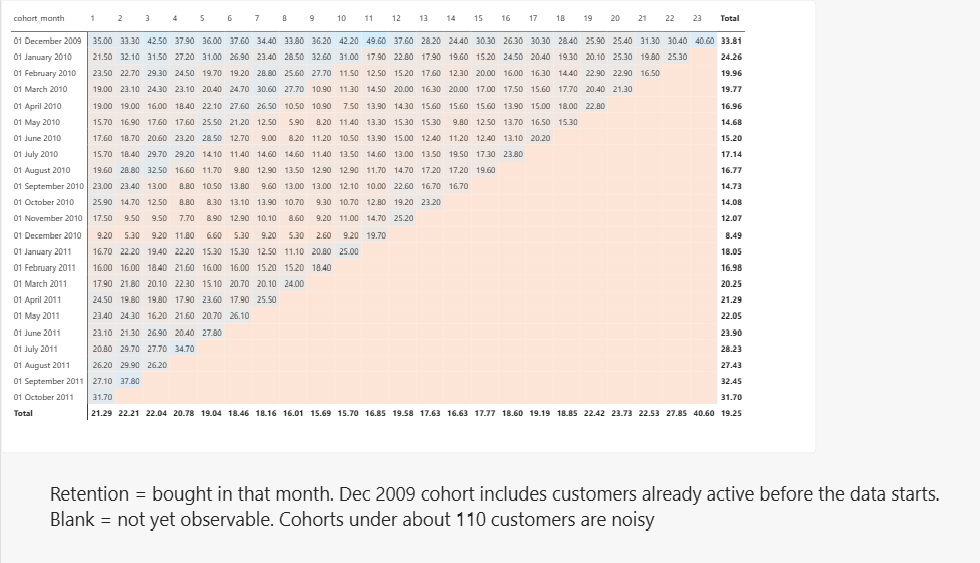

This screenshot's page, from the dashboard's own definition file:
{"tool":"powerbi","page":{"name":"Cohort retention","canvas":[1920,1080],"ordinal":2},"visuals":[{"type":"pivotTable","fields":{"Columns":["cohort_retention.month_index"],"Rows":["cohort_retention.cohort_month"],"Values":["Avg(cohort_retention.retention_pct)"]},"box":[0,0,1399.3,727.8],"z":0},{"type":"textbox","box":[83.7,768.2,1596.4,141.6],"z":1}]}

Visuals, with their boxes in screenshot pixels (x1, y1, x2, y2), scaled from the page's 1920x1080 canvas onto the 980x563 screenshot:
pivotTable - cohort_retention.month_index x cohort_retention.cohort_month: rect(0, 0, 714, 379)
textbox: rect(43, 400, 858, 474)
